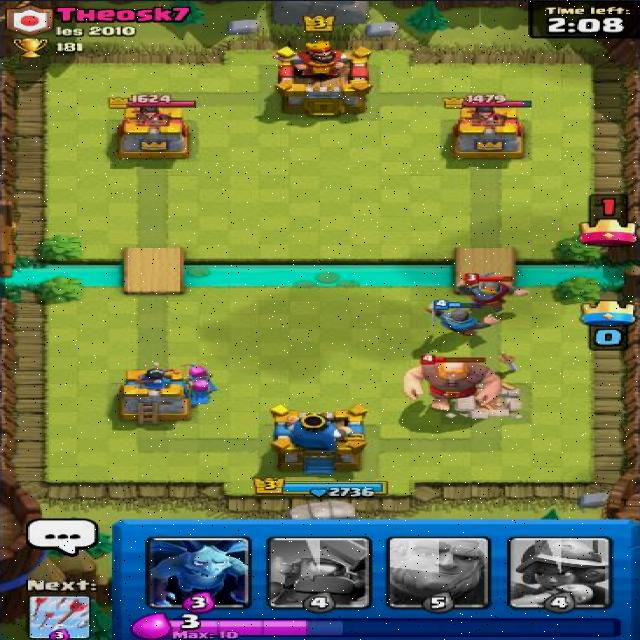Enemy-Giant: (398, 353, 504, 413)
Enemy-Knight: (455, 269, 533, 308)
Player-Archer: (175, 361, 220, 394), (182, 374, 218, 407)
Player-Knight: (425, 297, 502, 339)
